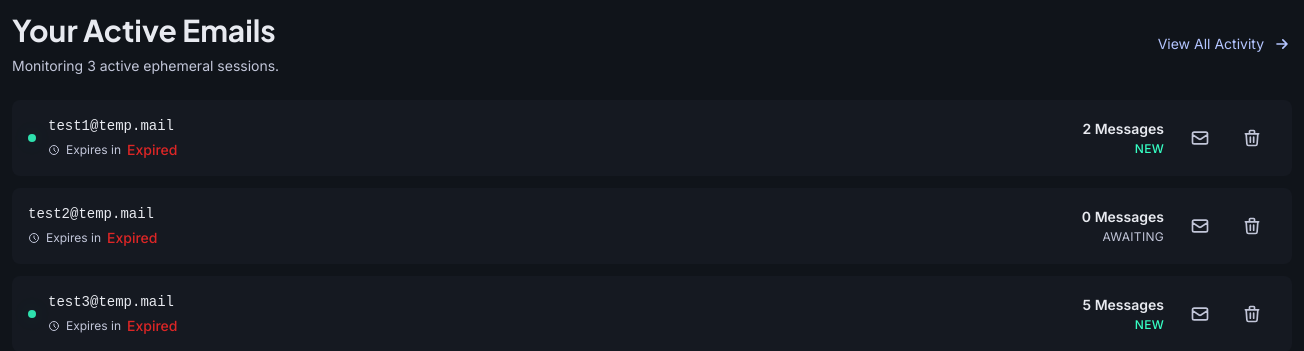
EmailList › delete button and confirmation › should hide confirmation buttons when cancel is clicked
The width and height of the screenshot is (1304, 351).
Click the 1st button named "Delete email" at [1254, 138], box [1232,116,1276,160]
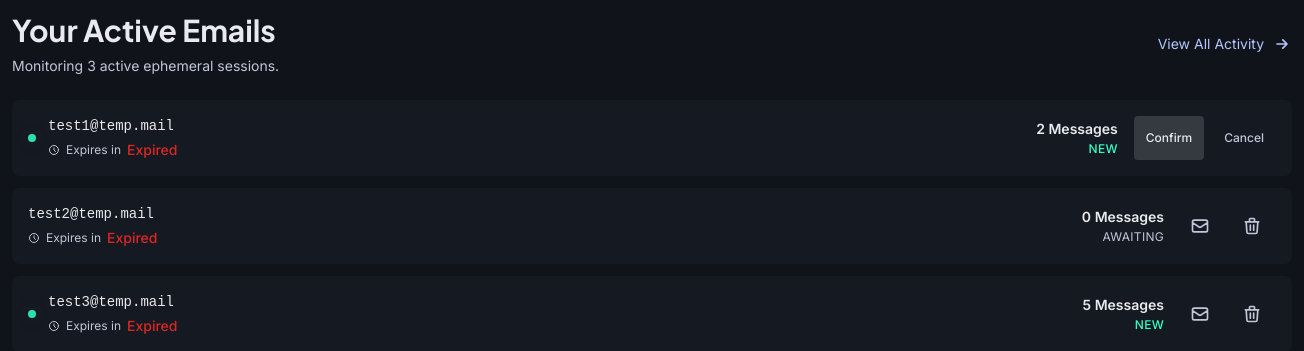
Click the button "Cancel" at [1244, 138], box [1212,116,1276,160]
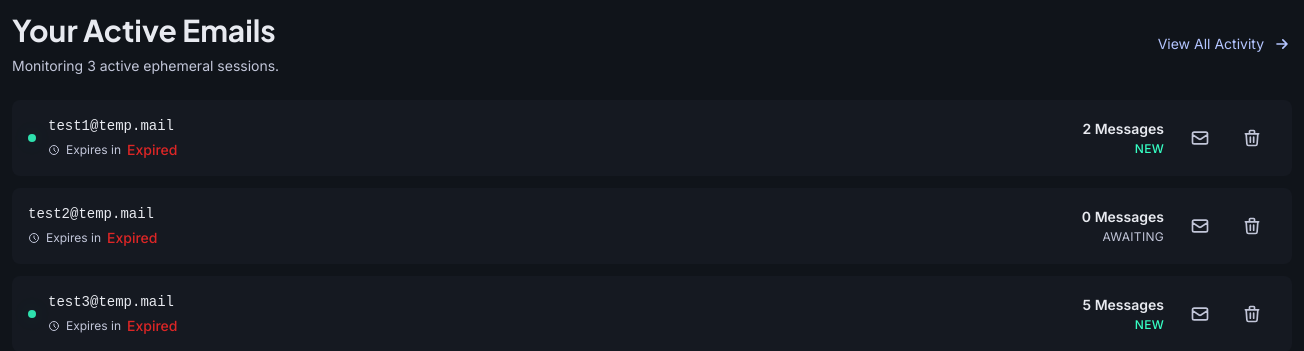
Result: the button "Confirm" is gone
Result: the button "Cancel" is gone
